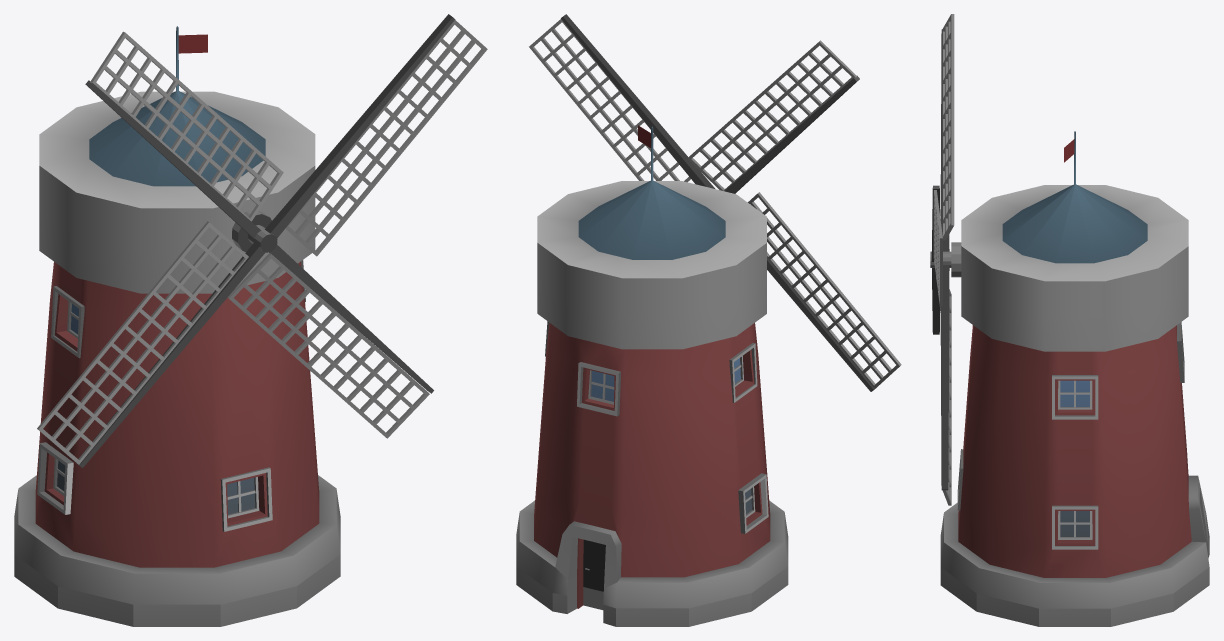
Rendered from buildings-farm-windmill_v1.glb.
3 views of the same model, side by side, from view 1: azimuth 30°, elevation 25°; view 2: azimuth 150°, elevation 25°; view 3: azimuth 270°, elevation 25° (orthographic). The views are drawn at different scales.
Parts seen in each view (by area): view 1: Windmill_base, Windmill_propeller, Windmill_windowRefl; view 2: Windmill_base, Windmill_propeller, Windmill_windowRefl; view 3: Windmill_base, Windmill_propeller, Windmill_windowRefl.
Boxes of the visible parts, left/top/right/bottom form: Windmill_base: left=14, top=26, right=340, bottom=626; Windmill_propeller: left=37, top=14, right=487, bottom=467; Windmill_windowRefl: left=57, top=304, right=255, bottom=514; Windmill_base: left=516, top=126, right=788, bottom=626; Windmill_propeller: left=529, top=14, right=901, bottom=391; Windmill_windowRefl: left=591, top=358, right=751, bottom=514; Windmill_base: left=930, top=131, right=1209, bottom=626; Windmill_propeller: left=931, top=14, right=954, bottom=505; Windmill_windowRefl: left=1060, top=380, right=1089, bottom=536.
Size of the model in its own units: 17.27 by 22.54 by 11.29.
